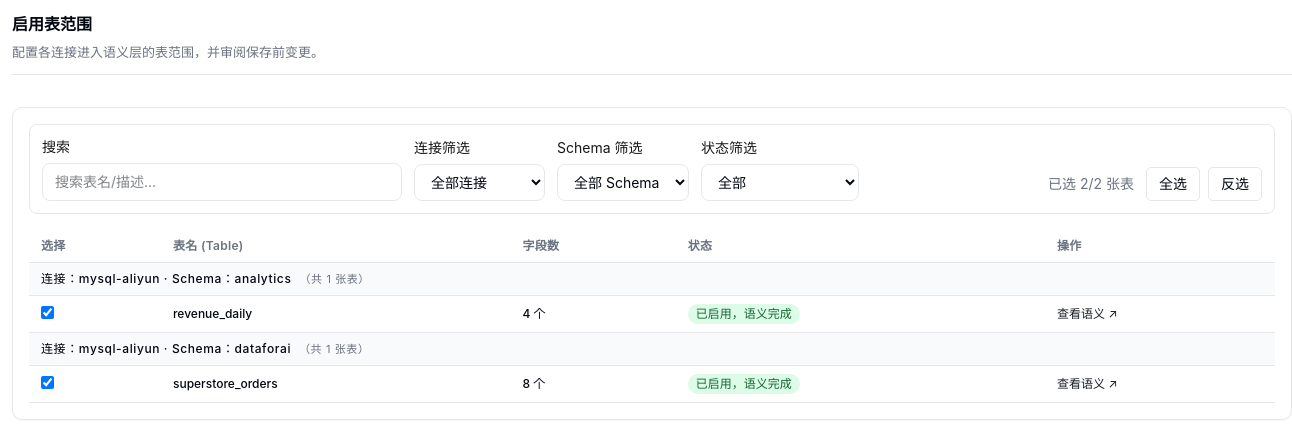
Test: TableWhitelist › groups visible rows by connection and schema instead of reusing the first schema
Expected: the text "连接：mysql-aliyun · Schema：analytics" is shown, [41,271,292,286]
Expected: the text "连接：mysql-aliyun · Schema：dataforai" is shown, [41,341,291,356]
Select "analytics" in the dropdown labelled "Schema 筛选": (623, 182) [557,164,689,201]
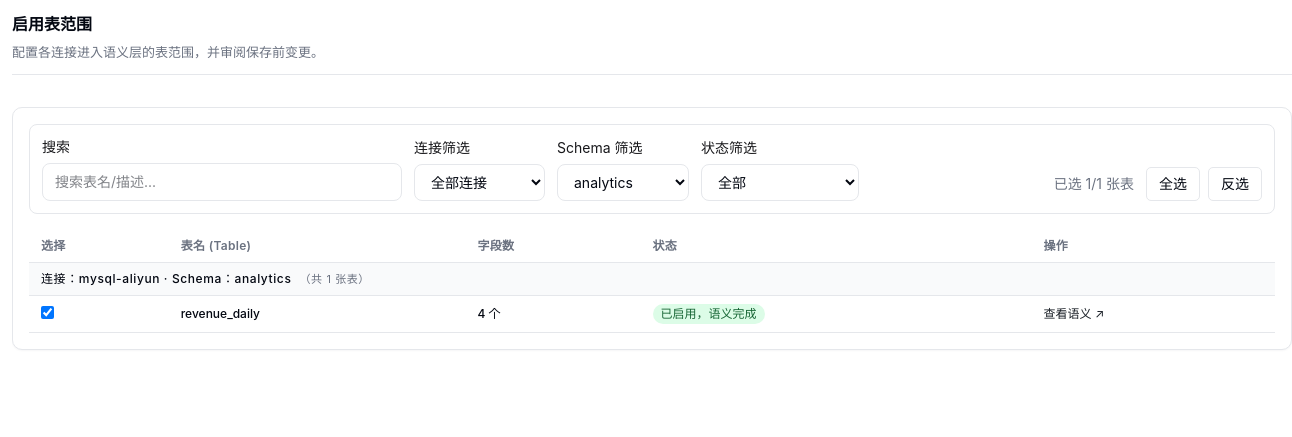
Expected: the text "连接：mysql-aliyun · Schema：analytics" is shown, [41,271,292,286]
Result: the text "连接：mysql-aliyun · Schema：dataforai" is gone
Result: the text "superstore_orders" is gone
